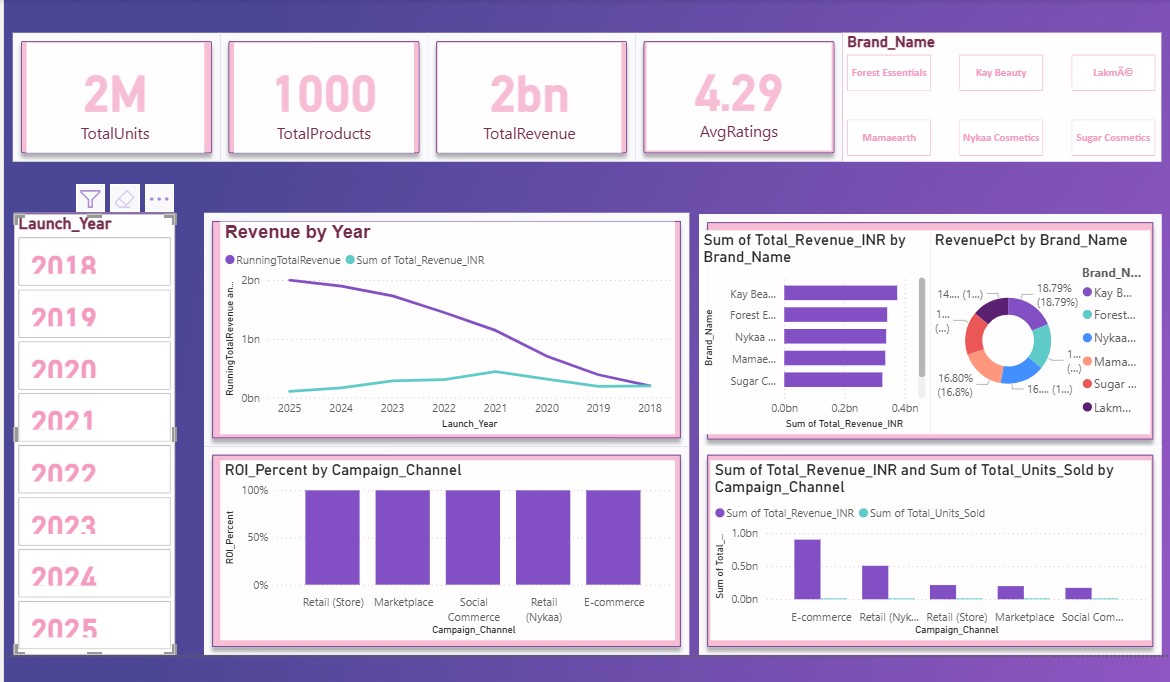

The page's visual inventory and layout, read from the dashboard file:
{"tool":"powerbi","page":{"name":"Page 2","canvas":[1280,720],"ordinal":0},"visuals":[{"type":"shape","box":[9.6,37,227.8,141.3],"z":1000},{"type":"shape","box":[219.6,234.6,532.4,256.6],"z":2000},{"type":"shape","box":[693,37,227.8,141.3],"z":3000},{"type":"shape","box":[465.2,37,227.8,141.3],"z":4000},{"type":"shape","box":[237.4,37,227.8,141.3],"z":5000},{"type":"shape","box":[219.6,491.3,532.4,229.2],"z":6000},{"type":"shape","box":[763,236,507.7,256.6],"z":7000},{"type":"shape","box":[763,491.3,507.7,229.2],"z":8000},{"type":"shape","box":[920.8,37,349.9,141.3],"z":9000},{"type":"card","fields":{"Values":["Beauty_Brands.TotalUnits"]},"box":[24.7,48,194.9,120.8],"z":10000},{"type":"card","fields":{"Values":["Beauty_Brands.TotalProducts"]},"box":[252.5,48,197.6,120.8],"z":11000},{"type":"card","fields":{"Values":["Beauty_Brands.AvgRatings"]},"box":[705.3,48,203.1,118],"z":12000},{"type":"hundredPercentStackedColumnChart","fields":{"Category":["Beauty_Brands.Campaign_Channel"],"Y":["Beauty_Brands.ROI_Percent"]},"box":[237.4,506.3,499.5,197.6],"z":13000},{"type":"lineChart","title":"Revenue by Year","fields":{"Category":["Beauty_Brands.Launch_Year"],"Y":["Beauty_Brands.RunningTotalRevenue","Sum(Beauty_Brands.Total_Revenue_INR)"]},"box":[237.4,249.7,499.5,233.3],"z":14000},{"type":"clusteredBarChart","fields":{"Category":["Beauty_Brands.Brand_Name"],"Y":["Sum(Beauty_Brands.Total_Revenue_INR)"]},"box":[763,253.9,253.9,223.7],"z":15000},{"type":"donutChart","fields":{"Category":["Beauty_Brands.Brand_Name"],"Y":["Beauty_Brands.RevenuePct"]},"box":[1016.8,253.9,241.5,223.7],"z":16000},{"type":"clusteredColumnChart","fields":{"Category":["Beauty_Brands.Campaign_Channel"],"Y":["Sum(Beauty_Brands.Total_Revenue_INR)","Sum(Beauty_Brands.Total_Units_Sold)"]},"box":[775.3,506.3,484.4,197.6],"z":17000},{"type":"advancedSlicerVisual","fields":{"Values":["Beauty_Brands.Brand_Name"]},"box":[920.8,37,349.9,141.3],"z":18000},{"type":"card","fields":{"Values":["Beauty_Brands.TotalRevenue"]},"box":[476.2,48,201.7,120.8],"z":19000},{"type":"advancedSlicerVisual","fields":{"Values":["Beauty_Brands.Launch_Year"]},"box":[24.7,178.4,141.3,542],"z":19001}]}

Visuals, with their boxes in screenshot pixels (x1, y1, x2, y2):
shape: [0, 28, 201, 161]
shape: [184, 213, 681, 453]
shape: [626, 28, 839, 161]
shape: [413, 28, 626, 161]
shape: [201, 28, 413, 161]
shape: [184, 453, 681, 667]
shape: [692, 214, 1166, 454]
shape: [692, 453, 1166, 667]
shape: [839, 28, 1166, 161]
card - Beauty_Brands.TotalUnits: [2, 39, 184, 152]
card - Beauty_Brands.TotalProducts: [215, 39, 399, 152]
card - Beauty_Brands.AvgRatings: [638, 39, 828, 149]
hundredPercentStackedColumnChart - Beauty_Brands.Campaign_Channel x Beauty_Brands.ROI_Percent: [201, 467, 667, 652]
"Revenue by Year" lineChart: [201, 227, 667, 445]
clusteredBarChart - Beauty_Brands.Brand_Name x Sum(Beauty_Brands.Total_Revenue_INR): [692, 231, 929, 440]
donutChart - Beauty_Brands.Brand_Name x Beauty_Brands.RevenuePct: [929, 231, 1155, 440]
clusteredColumnChart - Beauty_Brands.Campaign_Channel x Sum(Beauty_Brands.Total_Revenue_INR): [703, 467, 1156, 652]
advancedSlicerVisual - Beauty_Brands.Brand_Name: [839, 28, 1166, 161]
card - Beauty_Brands.TotalRevenue: [424, 39, 612, 152]
advancedSlicerVisual - Beauty_Brands.Launch_Year: [2, 161, 134, 667]
